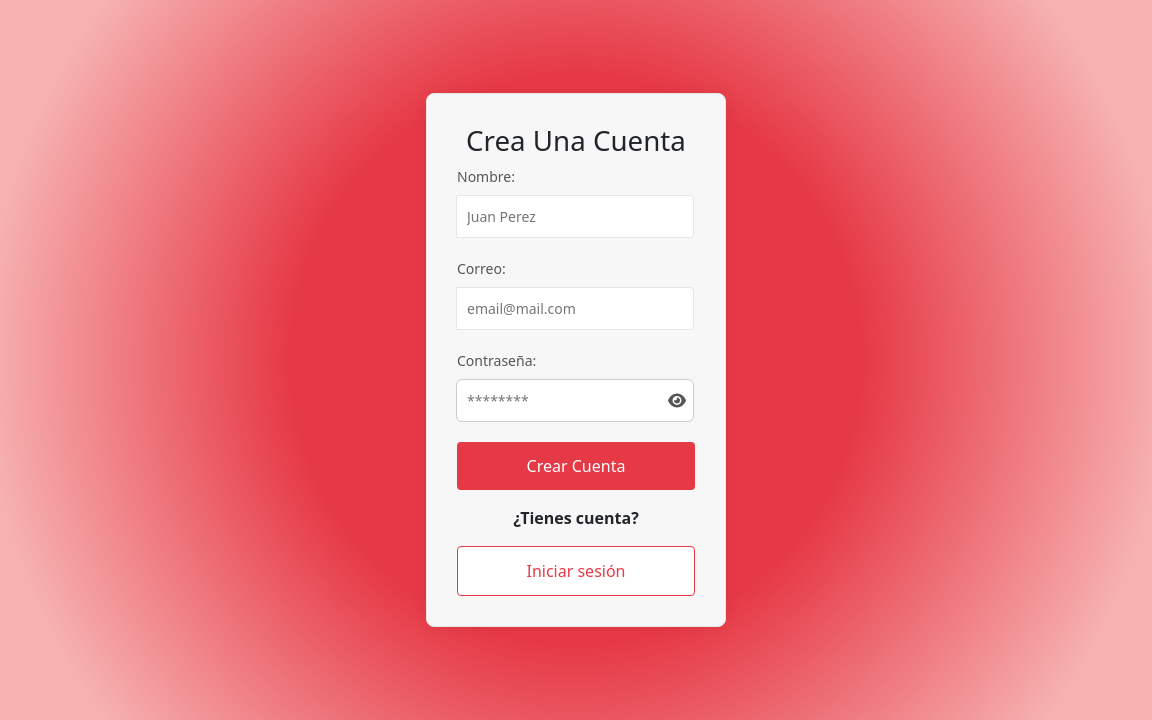
Test case: Signup Component › should validate the form fields
Click the button "Crear Cuenta": click(576, 466) [457,442,695,490]
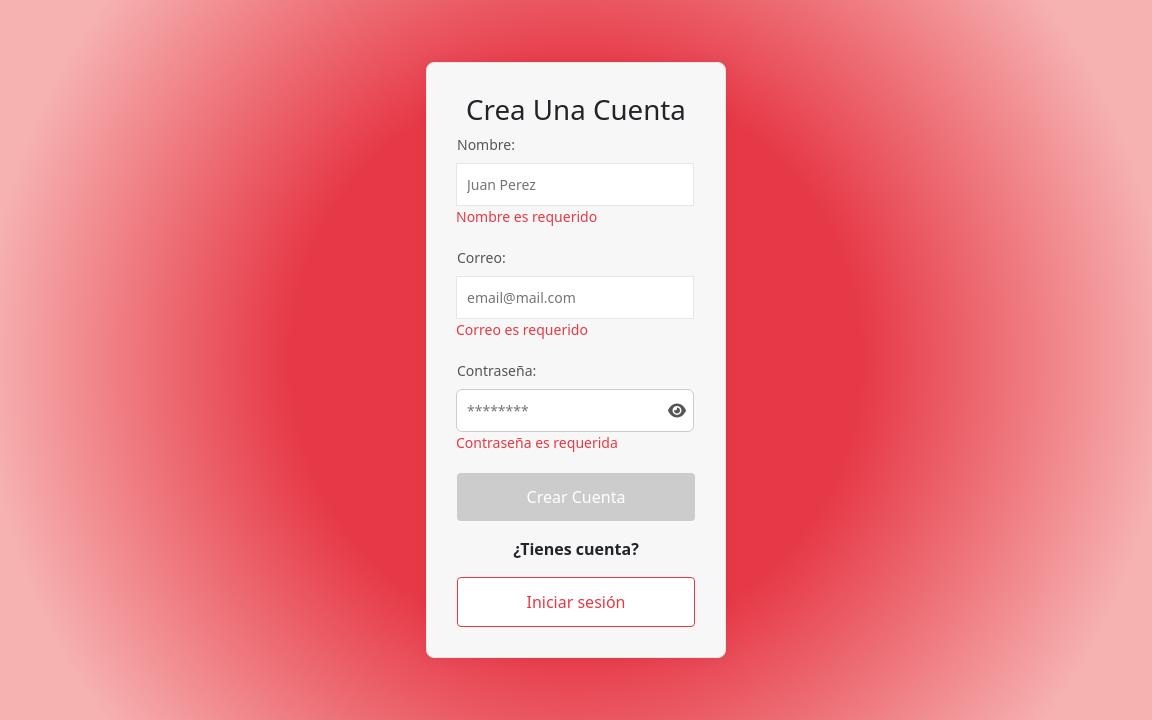
Expected: the text "Nombre es requerido" is shown, [456,206,597,227]
Expected: the text "Correo es requerido" is shown, [456,319,588,340]
Expected: the text "Contraseña es requerida" is shown, [456,432,618,453]
